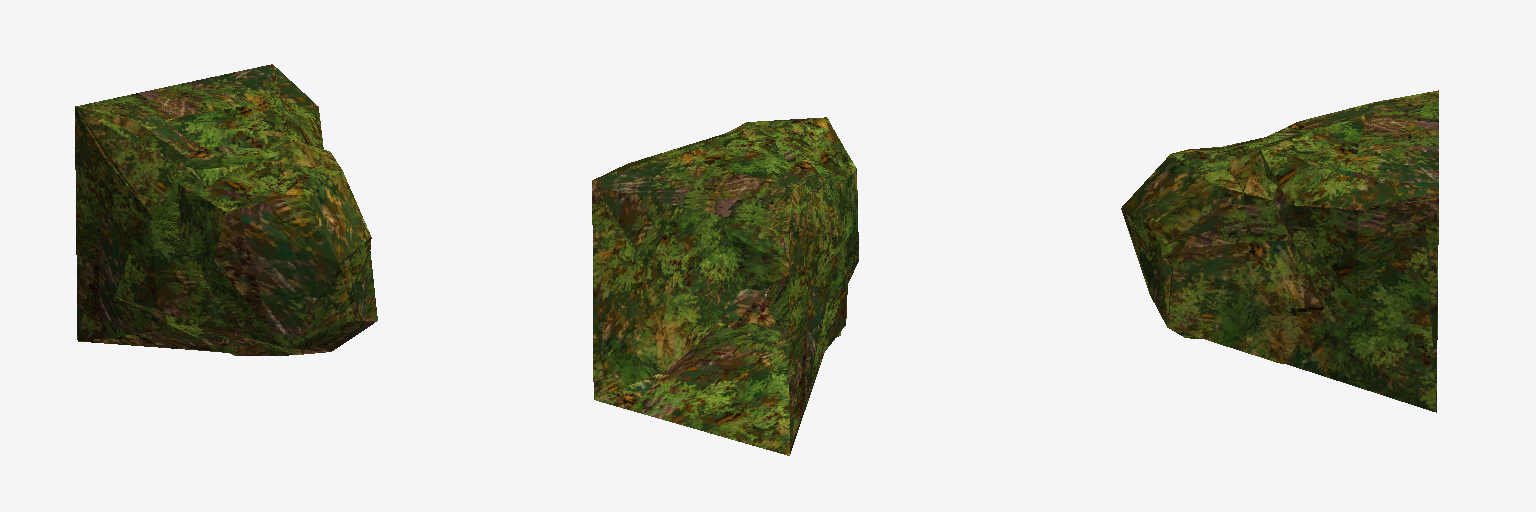
3 renders of one model, left to right at view 1: azimuth 30°, elevation 25°; view 2: azimuth 150°, elevation 25°; view 3: azimuth 270°, elevation 25°, orthographic.
Visible parts, largest first — view 1: Piles:1, Piles02:1, Piles01:1; view 2: Piles02:1, Piles:1, Piles01:1; view 3: Piles:1, Piles02:1, Piles01:1.
Part boxes in pixels (x1,y1,x2,y2): Piles:1: (78, 92, 376, 355); Piles02:1: (75, 67, 369, 353); Piles01:1: (75, 64, 377, 346); Piles02:1: (593, 125, 858, 455); Piles:1: (594, 117, 858, 449); Piles01:1: (592, 125, 857, 448); Piles:1: (1121, 102, 1436, 408); Piles02:1: (1121, 115, 1438, 412); Piles01:1: (1149, 90, 1438, 325).
Size of the model in its own units: 2.04 by 2.27 by 2.76.
3 materials, 1 textured.